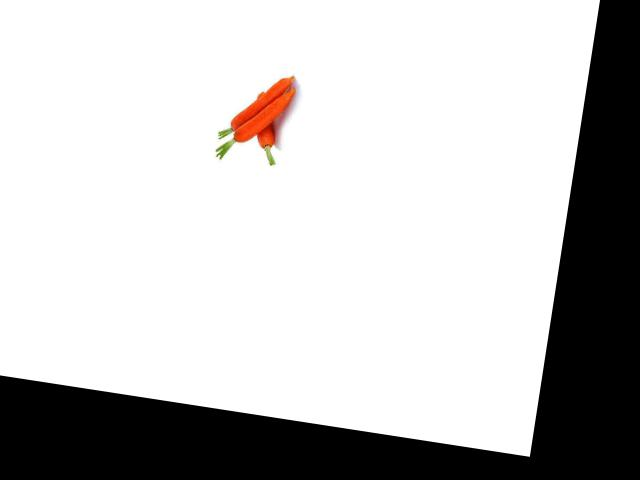carrot: (244, 87, 283, 164)
